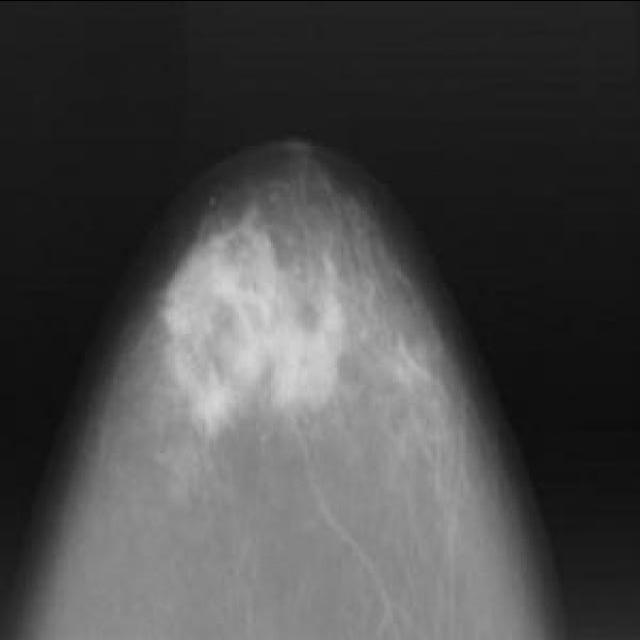tumor: (158, 205, 344, 431)
